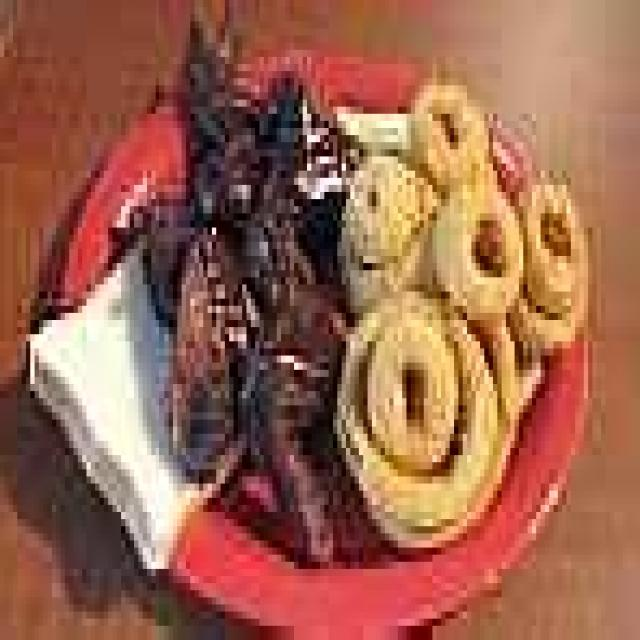Chicken Wings: (100, 7, 354, 541)
Onion Rings: (320, 42, 588, 548)
